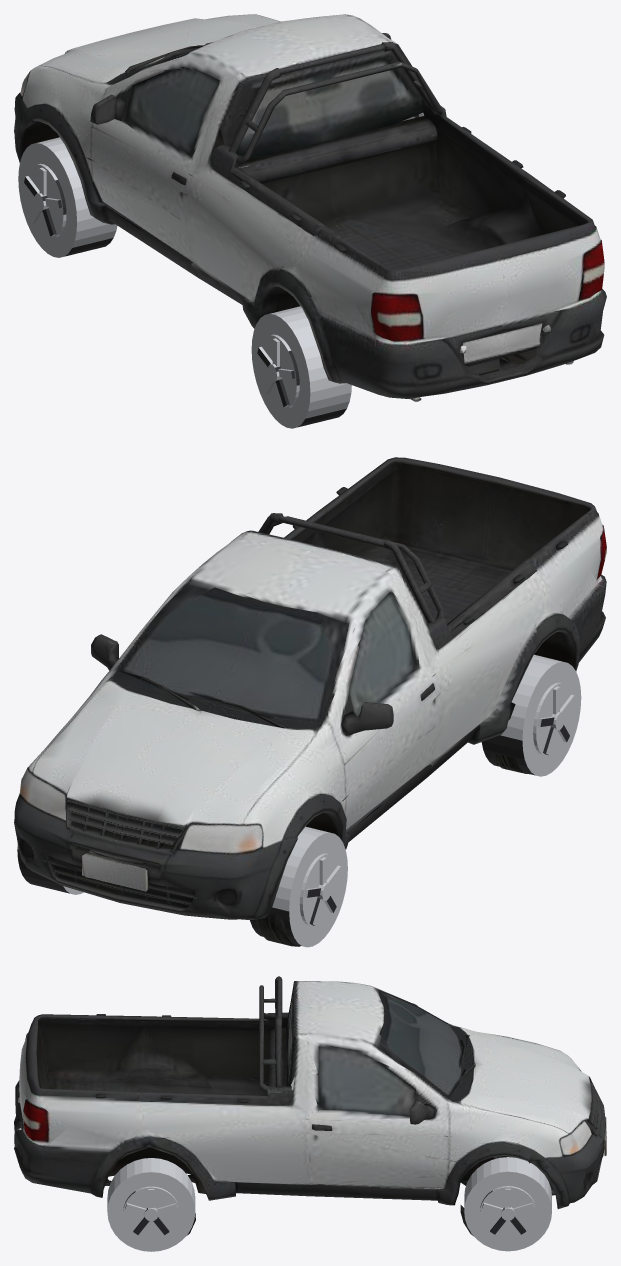
The model's file is carro-picape.glb.
The picture shows the model from 3 angles, top to bottom: view 1: azimuth 30°, elevation 25°; view 2: azimuth 150°, elevation 25°; view 3: azimuth 270°, elevation 25°; orthographic projection. The views are drawn at different scales.
Parts seen in each view (by area): view 1: Corpo, Roda_RL, Roda_FL; view 2: Corpo, Roda_RL, Roda_FL, Roda_FR; view 3: Corpo, Roda_FR, Roda_RR.
Boxes of the visible parts, x1,y1,x2,y2 form: Corpo: (14, 14, 606, 401); Roda_RL: (251, 306, 351, 428); Roda_FL: (18, 137, 117, 257); Corpo: (14, 457, 606, 946); Roda_RL: (481, 654, 581, 776); Roda_FL: (250, 826, 347, 947); Roda_FR: (17, 844, 83, 894); Corpo: (14, 976, 606, 1236); Roda_FR: (464, 1157, 551, 1251); Roda_RR: (107, 1158, 195, 1251).
Size of the model in its own units: 1.95 by 1.7 by 4.45.
Materials: 3 (1 with a texture image).
